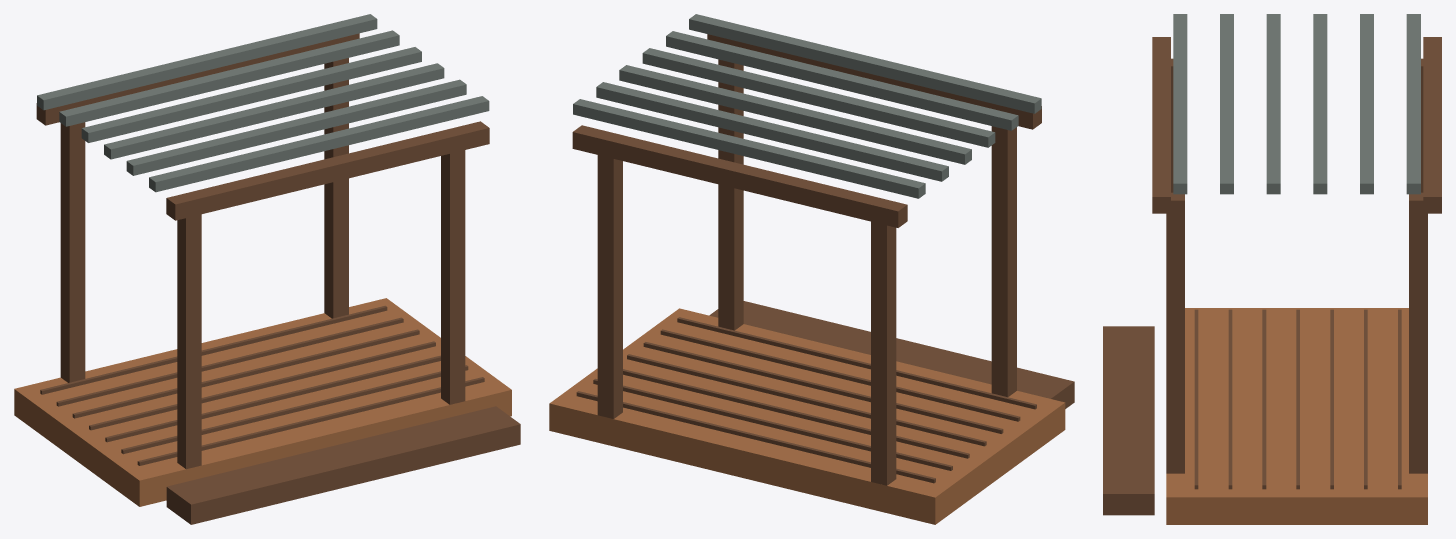
File: component-pergola-module.meshopt.glb
3 renders of one model, left to right at view 1: azimuth 30°, elevation 25°; view 2: azimuth 150°, elevation 25°; view 3: azimuth 270°, elevation 25°, orthographic. The views are drawn at different scales.
Parts seen in each view (by area): view 1: deck_base, front_step, main_beam_front, post_-0.68_-0.52, post_-0.68_0.52, post_0.68_0.52, roof_louver_1, roof_louver_2, roof_louver_4, roof_louver_5, roof_louver_6, roof_louver_3 (+9 smaller); view 2: deck_base, main_beam_back, post_-0.68_0.52, front_step, post_0.68_-0.52, post_-0.68_-0.52, roof_louver_4, roof_louver_5, roof_louver_6, roof_louver_1, roof_louver_3, roof_louver_2 (+9 smaller); view 3: deck_base, front_step, post_0.68_-0.52, post_0.68_0.52, main_beam_front, main_beam_back, roof_louver_1, roof_louver_3, roof_louver_4, roof_louver_6, roof_louver_2, roof_louver_5 (+9 smaller).
Boxes of the visible parts, box(x1,y1,x2,y2) form: deck_base: box(14, 298, 511, 506); front_step: box(166, 406, 520, 524); main_beam_front: box(166, 121, 489, 220); post_-0.68_-0.52: box(60, 122, 85, 382); post_-0.68_0.52: box(177, 214, 201, 469); post_0.68_0.52: box(441, 150, 465, 404); roof_louver_1: box(37, 14, 377, 110); roof_louver_2: box(59, 30, 399, 126); roof_louver_4: box(104, 63, 444, 159); roof_louver_5: box(126, 79, 466, 175); roof_louver_6: box(149, 96, 489, 192); roof_louver_3: box(81, 47, 421, 142); deck_base: box(549, 308, 1065, 524); main_beam_back: box(572, 125, 907, 227); post_-0.68_0.52: box(991, 126, 1016, 397); front_step: box(709, 301, 1074, 408); post_0.68_-0.52: box(597, 155, 622, 418); post_-0.68_-0.52: box(871, 221, 896, 485); roof_louver_4: box(642, 48, 995, 147); roof_louver_5: box(666, 31, 1018, 130); roof_louver_6: box(689, 14, 1041, 113); roof_louver_1: box(573, 99, 925, 198); roof_louver_3: box(619, 65, 971, 164); roof_louver_2: box(596, 82, 948, 181); deck_base: box(1166, 308, 1427, 524); front_step: box(1103, 326, 1154, 515); post_0.68_-0.52: box(1409, 192, 1427, 473); post_0.68_0.52: box(1166, 192, 1184, 473); main_beam_front: box(1152, 37, 1170, 213); main_beam_back: box(1423, 37, 1441, 213); roof_louver_1: box(1406, 14, 1420, 194); roof_louver_3: box(1313, 14, 1327, 194); roof_louver_4: box(1266, 14, 1280, 194); roof_louver_6: box(1173, 14, 1187, 194); roof_louver_2: box(1360, 14, 1373, 194); roof_louver_5: box(1220, 14, 1233, 194).
Bounding box in the file's own units: 1.92 × 1.57 × 1.45.
